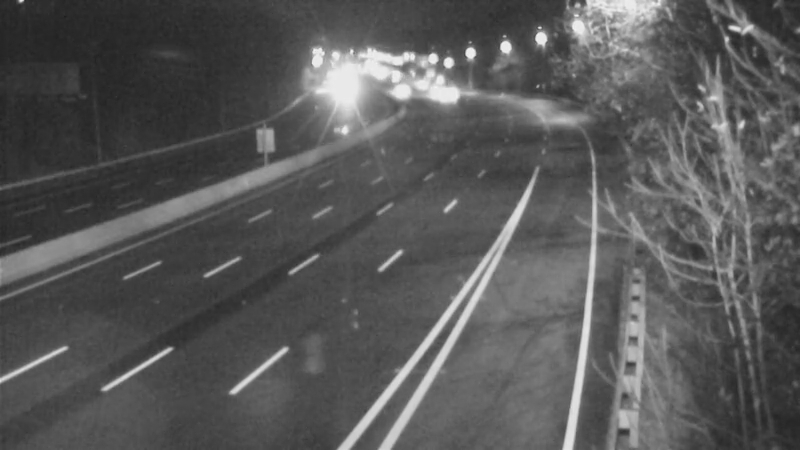vehicle: (397, 59, 447, 109), (375, 67, 425, 117), (423, 69, 473, 119), (314, 72, 364, 122)
